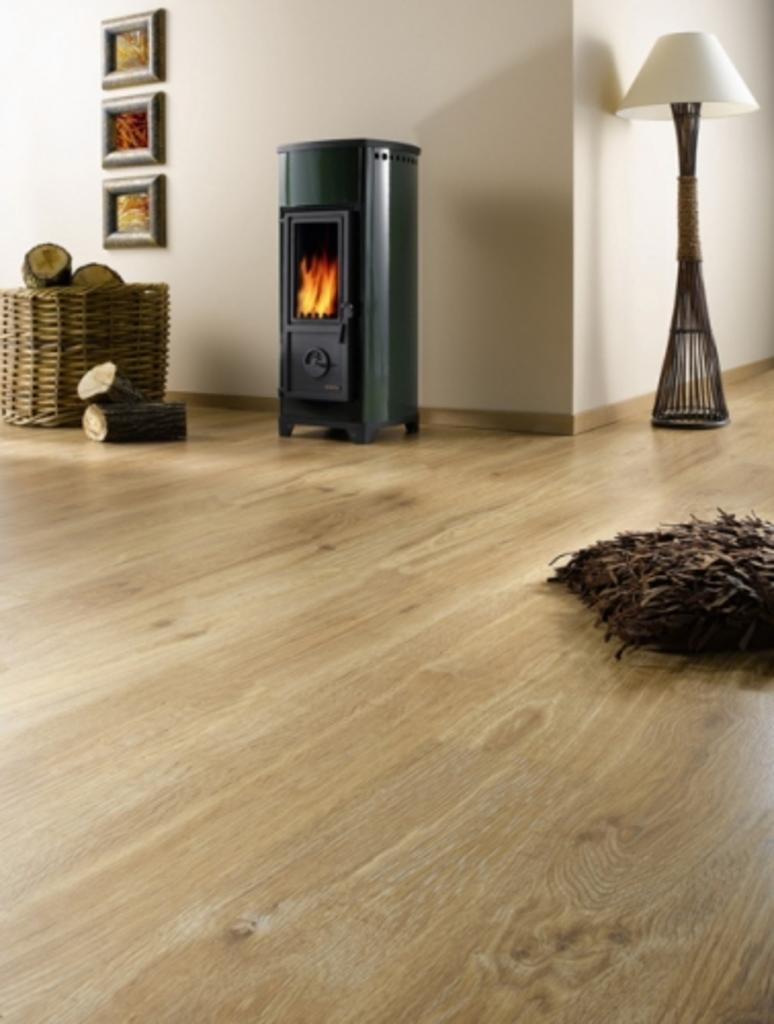Fire: (279, 204, 351, 333)
